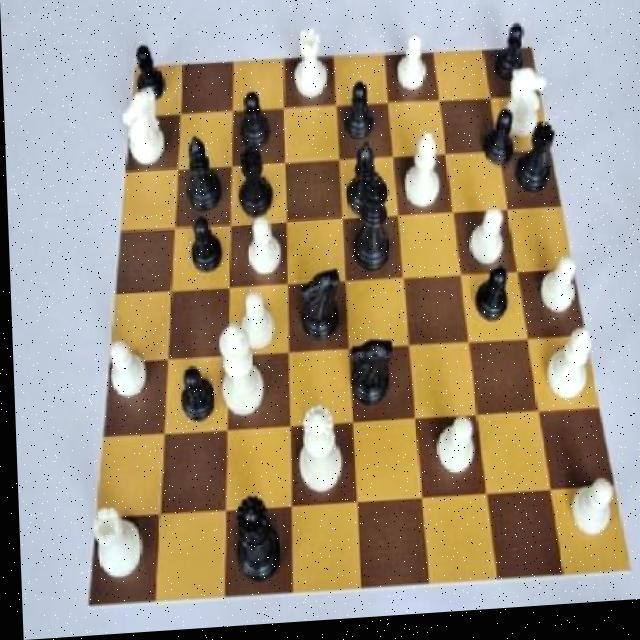bishop: (175, 129, 219, 226), (342, 142, 389, 227)
black-bishop: (340, 178, 397, 284)
black-king: (288, 259, 345, 351), (340, 327, 395, 421)
black-knight: (177, 201, 224, 290), (474, 108, 526, 188), (488, 15, 535, 101), (128, 34, 170, 122), (466, 265, 514, 340), (171, 363, 222, 433), (338, 80, 381, 155), (235, 89, 274, 160)
black-pawn: (228, 492, 285, 595)
black-queen: (512, 123, 562, 213), (229, 145, 273, 231)
black-rook: (537, 325, 596, 420), (396, 137, 449, 225)
white-bishop: (213, 318, 262, 432)
white-king: (113, 81, 167, 184), (499, 70, 550, 151)
white-knight: (526, 256, 585, 336), (98, 328, 151, 417), (426, 416, 477, 497), (559, 483, 613, 558), (241, 204, 289, 287), (227, 289, 282, 361), (390, 28, 436, 104), (465, 209, 506, 286)
white-pawn: (286, 406, 343, 512)
white-queen: (80, 501, 142, 591), (281, 24, 336, 113)
